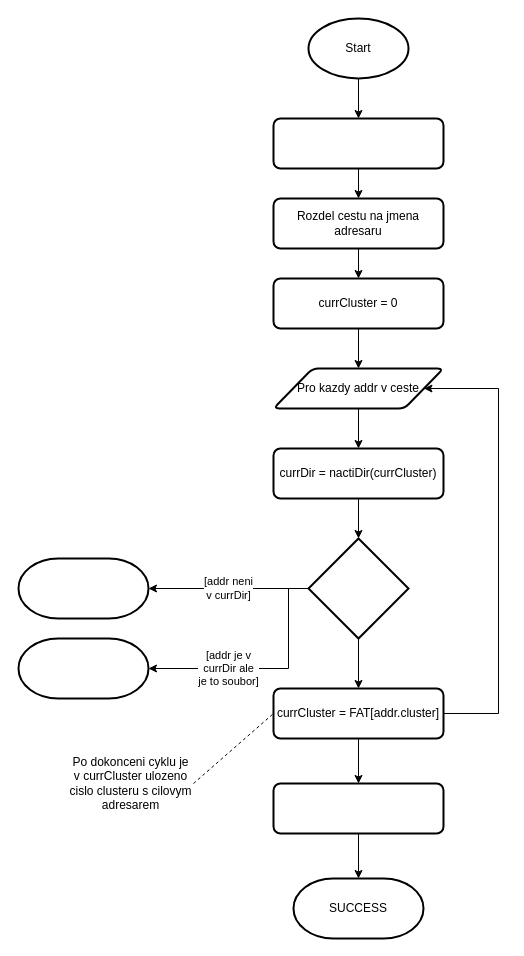
This 524x956 diagram has some shape labels left out. The centre of each missing label's shape, as x and y in pixels:
FLE_NOT_FOUND: (x=83, y=588)
loadDirTo(currCluster,target): (x=358, y=808)
Nacti Boot record FS + FAT: (x=358, y=143)
NOT_A_DIR: (x=83, y=668)
